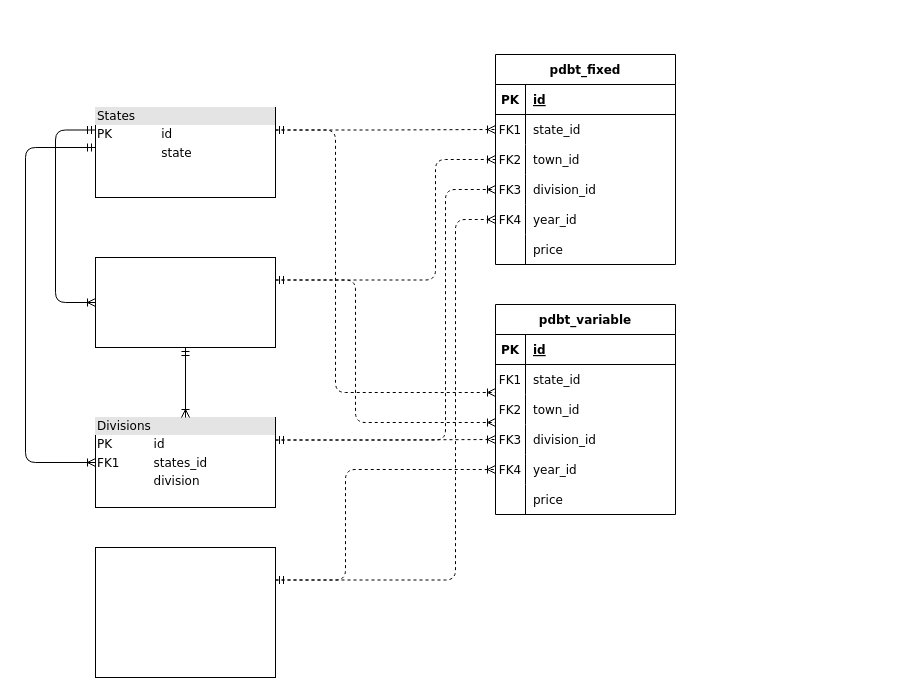
The diagram is 923 pixels wide and 695 high, and some of its shapes have lost their labels. The shapes that lost their labels are listed below. From the top down, each one's box as (x1, y1, x2, y2) in pixels, then its label:
(94, 256, 276, 348): Towns PK id FK1 state_id town
(94, 546, 276, 678): Years PK id year
